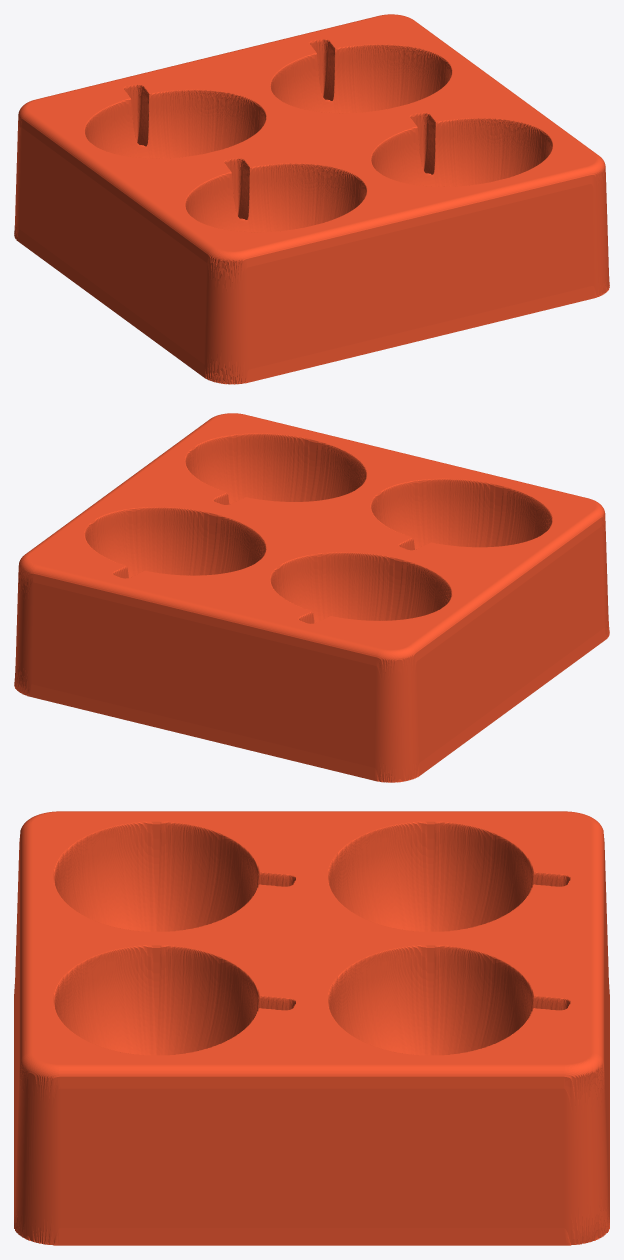
File: mold.glb
3 renders of one model, top to bottom at view 1: azimuth 30°, elevation 25°; view 2: azimuth 150°, elevation 25°; view 3: azimuth 270°, elevation 25°, orthographic. The views are drawn at different scales.
Visible parts, largest first — view 1: geometry_0; view 2: geometry_0; view 3: geometry_0.
Part boxes in pixels (box(x1,y1,x2,y2)): geometry_0: box(14, 14, 609, 384); geometry_0: box(14, 413, 609, 782); geometry_0: box(14, 811, 609, 1245).
Bounding box in the file's own units: 0.1248 × 0.0377 × 0.1176.
